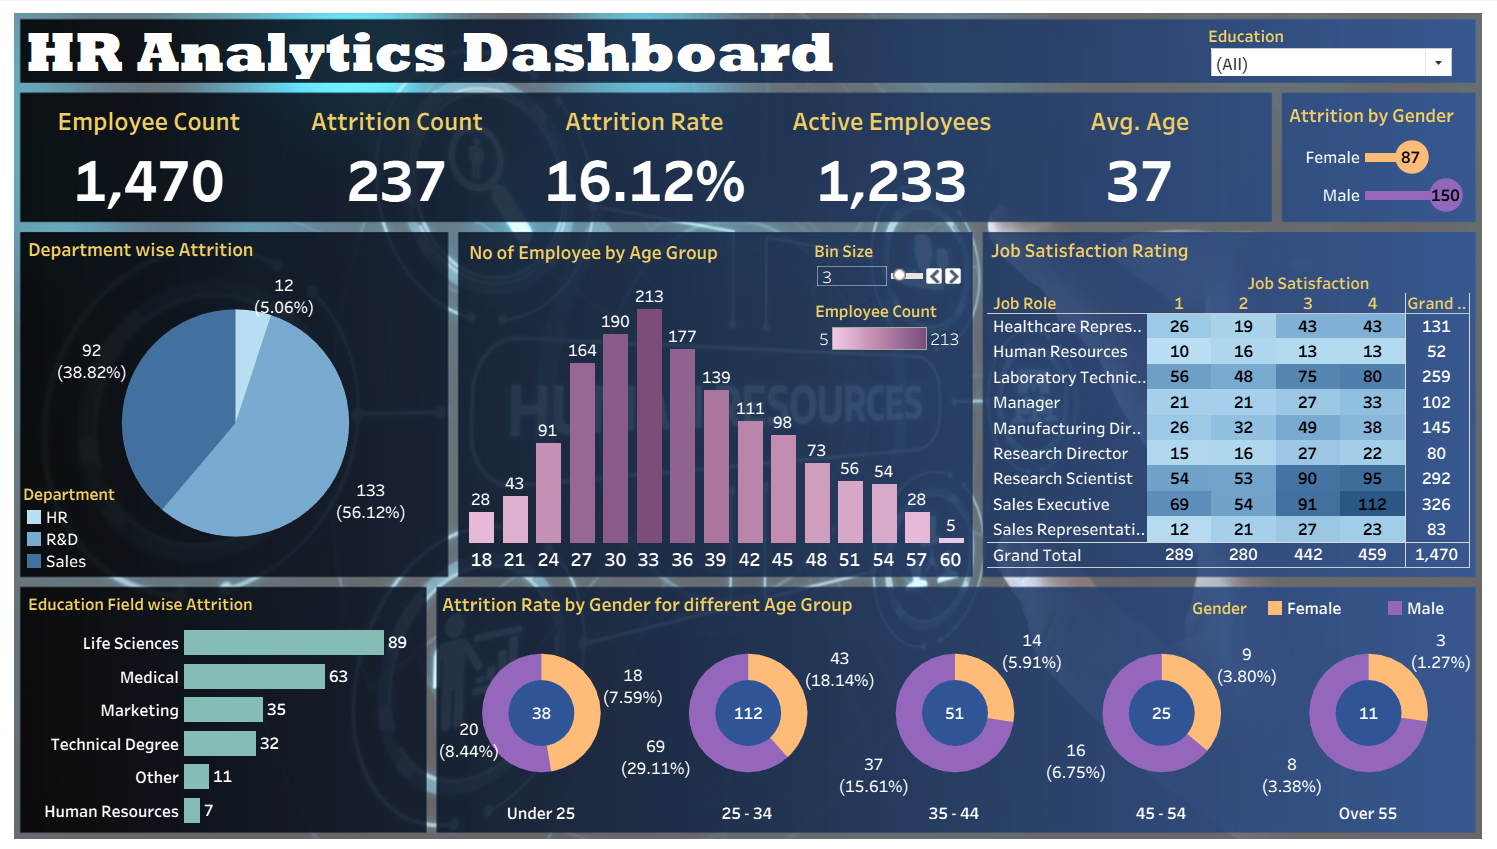

This screenshot's page, from the dashboard's own definition file:
{"tool":"tableau","page":{"name":"HR Analystics Dashboard","canvas":[1500,850],"ordinal":0},"visuals":[{"type":"image","param":"Image/HR background.pptx.png","box":[8,8,1484,834]},{"type":"text","box":[24,22,859,56]},{"type":"filter","title":"Department wise Attrition","param":"[federated.1l9bxe10cd0l1f10ormq81ez5kna].[none:Education:nk]","box":[1210,24,247,51]},{"type":"worksheet","title":"KPI","mark":"Automatic","box":[27,97,1239,118]},{"type":"worksheet","title":"Attrition by Gender","mark":"Automatic","rows":["Gender"],"cols":["Calculation_3643130675520286720","Calculation_3643130675520286720"],"box":[1287,97,182,116]},{"type":"worksheet","title":"Department wise Attrition","mark":"Pie","box":[26,231,423,342]},{"type":"worksheet","title":"Job Satisfaction Rating","mark":"Square","rows":["Job Role"],"cols":["Job Satisfaction"],"box":[989,232,483,335]},{"type":"worksheet","title":"No of Employee by Age Group","mark":"Automatic","rows":["Employee Count"],"cols":["Age (bin)"],"box":[467,234,503,337]},{"type":"parameter","param":"[Parameters].[Parameter 1]","box":[816,239,150,55]},{"type":"legend","title":"No of Employee by Age Group","param":"[federated.1l9bxe10cd0l1f10ormq81ez5kna].[sum:Employee Count:qk]","box":[817,299,149,54]},{"type":"legend","title":"Department wise Attrition","param":"[federated.1l9bxe10cd0l1f10ormq81ez5kna].[none:Department:nk]","box":[25,482,98,92]},{"type":"worksheet","title":"Attrition Rate by Gender for different Age Group","mark":"Pie","rows":["Calculation_3225140335546621953","Calculation_3225140335546621953"],"cols":["CF_age band"],"box":[440,586,1034,238]},{"type":"worksheet","title":"Education Field wise Attrition","mark":"Automatic","rows":["Education Field"],"cols":["Calculation_3643130675520286720"],"box":[26,588,398,238]}]}

Visuals, with their boxes in screenshot pixels (x1, y1, x2, y2), scaled from the page's 1500x850 canvas onto the 1497x849 screenshot:
image: <region>8, 8, 1489, 841</region>
text: <region>24, 22, 881, 78</region>
"Department wise Attrition" filter: <region>1208, 24, 1454, 75</region>
"KPI" worksheet: <region>27, 97, 1263, 215</region>
"Attrition by Gender" worksheet: <region>1284, 97, 1466, 213</region>
"Department wise Attrition" worksheet (Pie marks): <region>26, 231, 448, 572</region>
"Job Satisfaction Rating" worksheet (Square marks): <region>987, 232, 1469, 566</region>
"No of Employee by Age Group" worksheet: <region>466, 234, 968, 570</region>
parameter: <region>814, 239, 964, 294</region>
"No of Employee by Age Group" legend: <region>815, 299, 964, 353</region>
"Department wise Attrition" legend: <region>25, 481, 123, 573</region>
"Attrition Rate by Gender for different Age Group" worksheet (Pie marks): <region>439, 585, 1471, 823</region>
"Education Field wise Attrition" worksheet: <region>26, 587, 423, 825</region>
